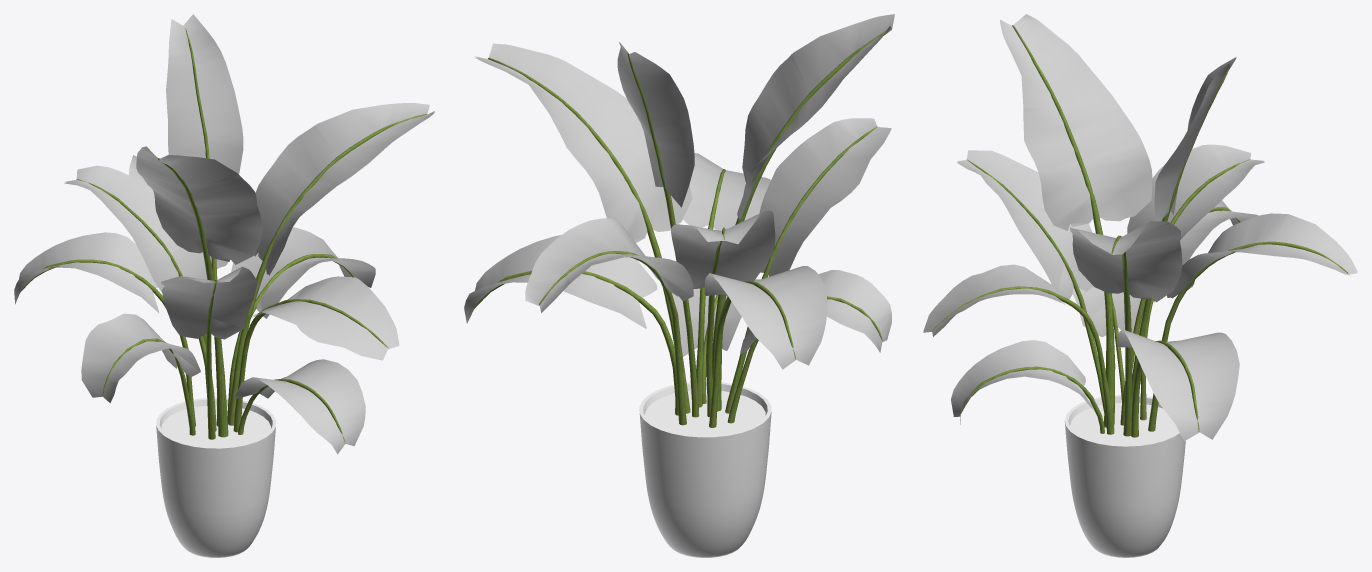
The model's file is SM_HousePlant_A1.fbx.
3 views of the same model, side by side, from view 1: azimuth 30°, elevation 25°; view 2: azimuth 150°, elevation 25°; view 3: azimuth 270°, elevation 25° (orthographic). The views are drawn at different scales.
Visible parts, largest first — view 1: SM_HousePlant_A1; view 2: SM_HousePlant_A1; view 3: SM_HousePlant_A1.
Boxes of the visible parts, x1,y1,x2,y2 form: SM_HousePlant_A1: [14, 14, 434, 557]; SM_HousePlant_A1: [464, 14, 894, 557]; SM_HousePlant_A1: [923, 14, 1357, 557].
Size of the model in its own units: 107 by 108 by 136.
Materials: 4 (3 with a texture image).
